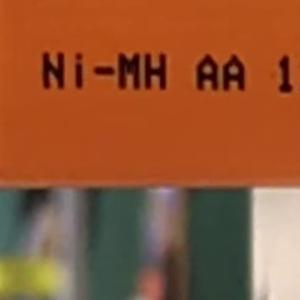keyword: (32, 44, 176, 99)
